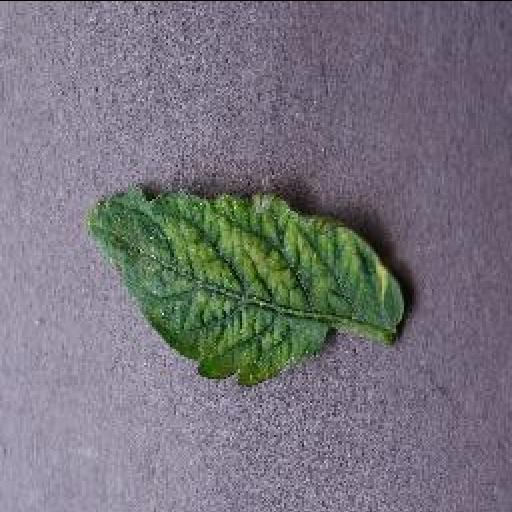Mosaic Virus: (86, 180, 406, 384)
